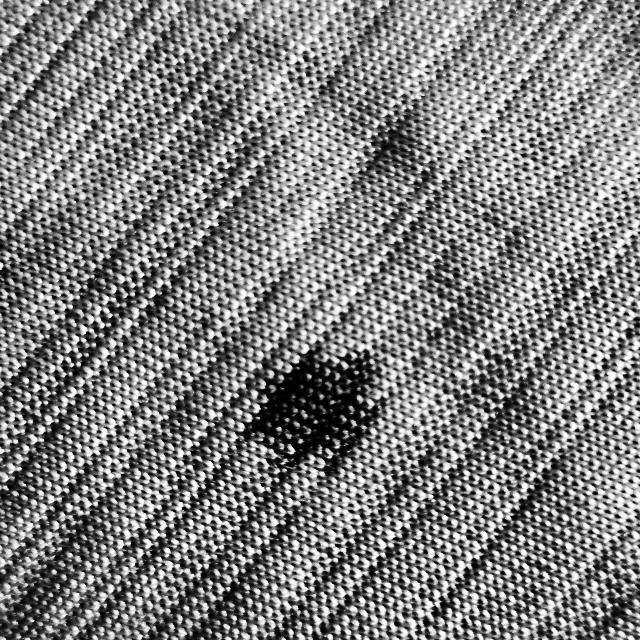Color_defect: (246, 351, 391, 452)
